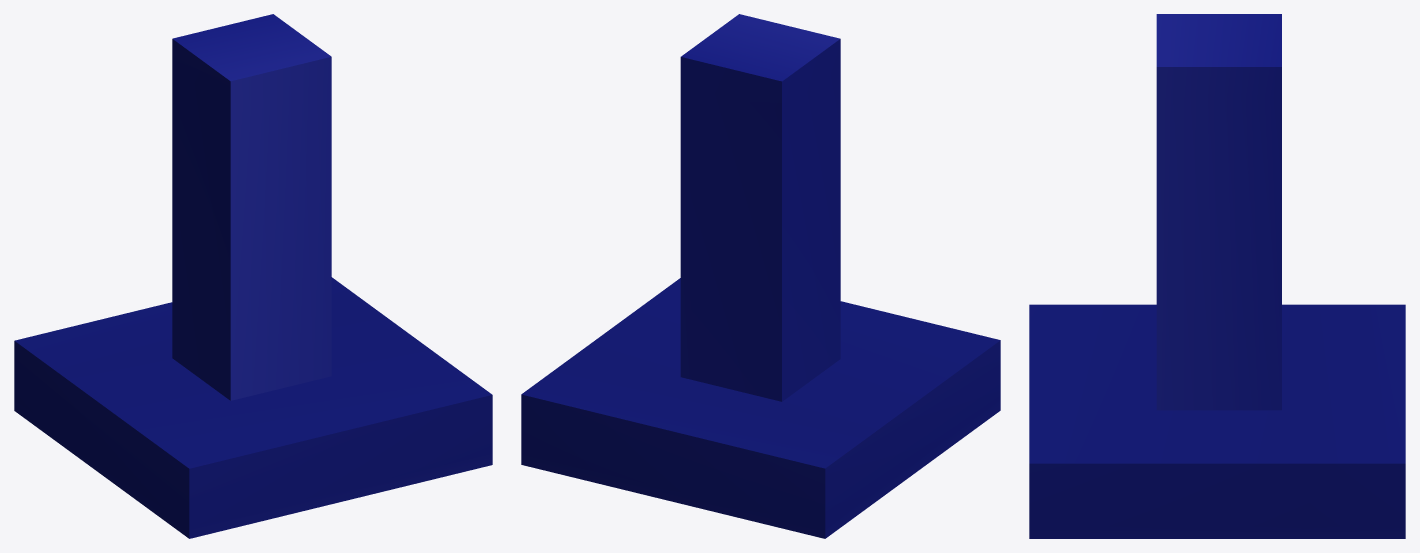
File: harpoon_blue_1.fbx
The picture shows the model from 3 angles, left to right: view 1: azimuth 30°, elevation 25°; view 2: azimuth 150°, elevation 25°; view 3: azimuth 270°, elevation 25°; orthographic projection. The views are drawn at different scales.
Visible parts, largest first — view 1: Cube.054; view 2: Cube.054; view 3: Cube.054.
Part boxes in pixels (x1=…): Cube.054: x1=14, y1=14, x2=492, y2=538; Cube.054: x1=521, y1=14, x2=1000, y2=538; Cube.054: x1=1029, y1=14, x2=1405, y2=538.
Size of the model in its own units: 60 by 73.69 by 60.
